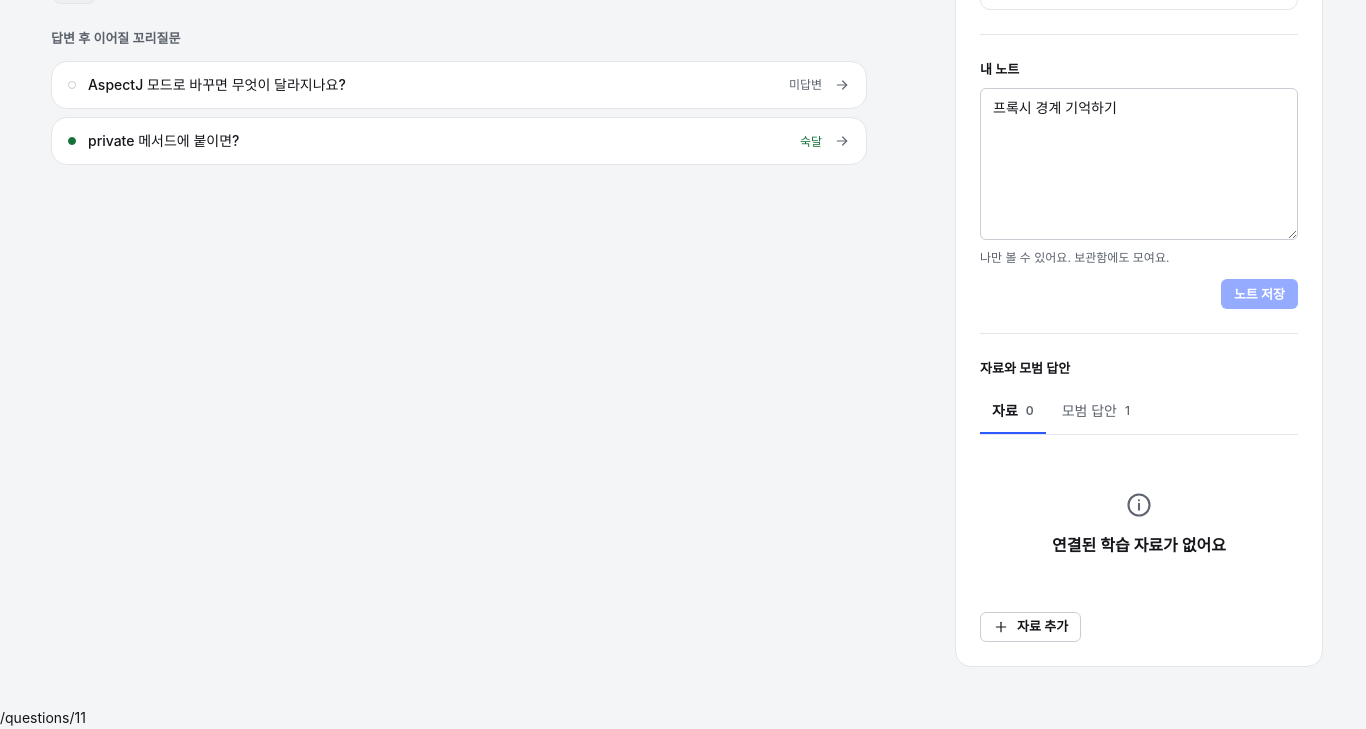
Test: QuestionWorkspacePage › validates and saves a new reference answer from a dialog
The width and height of the screenshot is (1366, 729).
(page scrolled)
Click the tab "모범 답안 1". click: (1096, 412)
box: top-left (1050, 390), bottom-right (1142, 434)
(page scrolled)
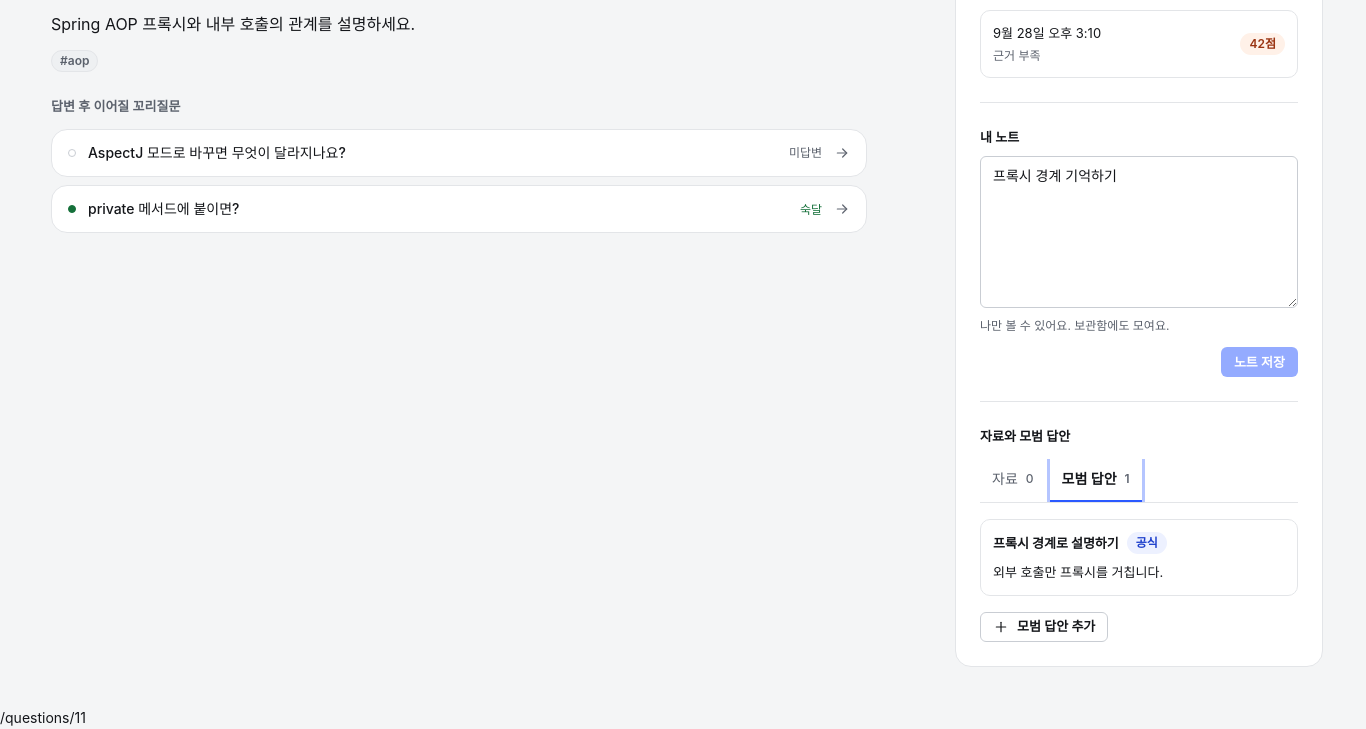
Click the button "모범 답안 추가". click: (1044, 627)
box: top-left (980, 612), bottom-right (1108, 642)
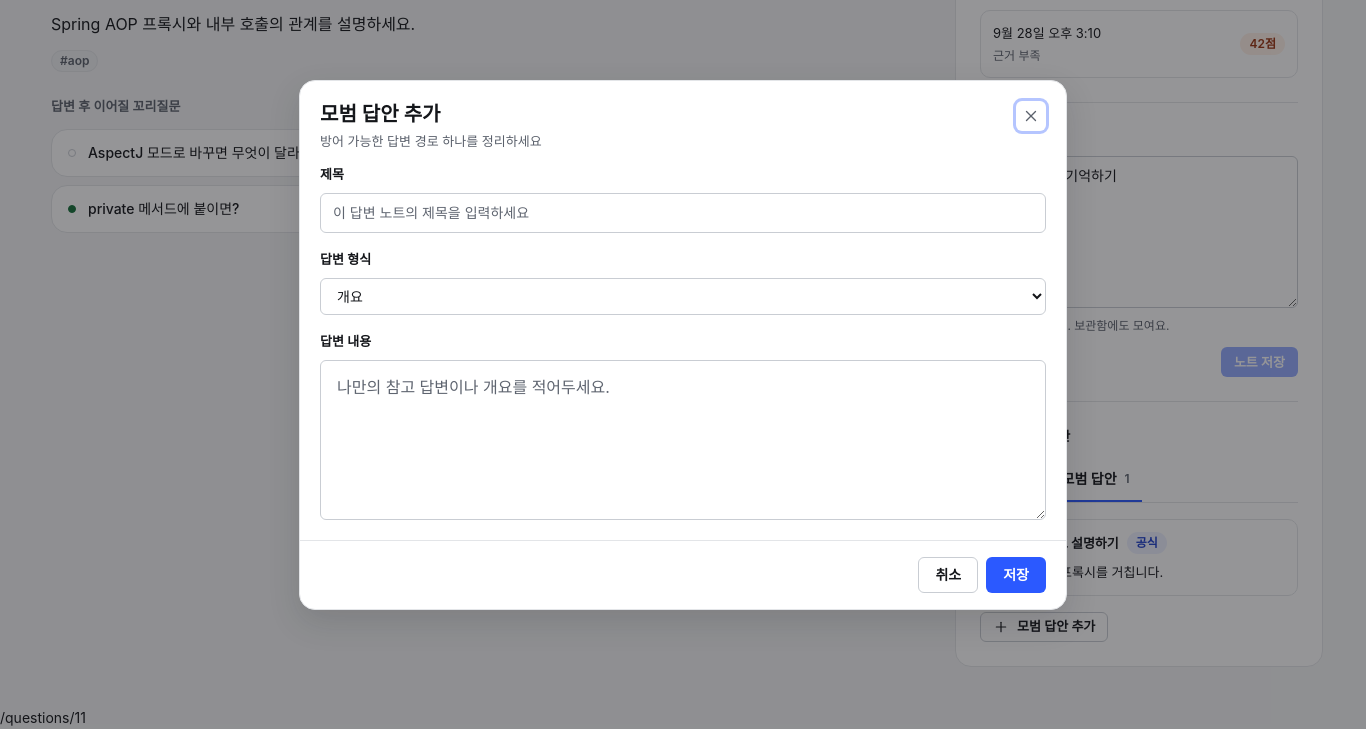
Click the button "저장". click: (1016, 575)
box: top-left (986, 557), bottom-right (1046, 593)
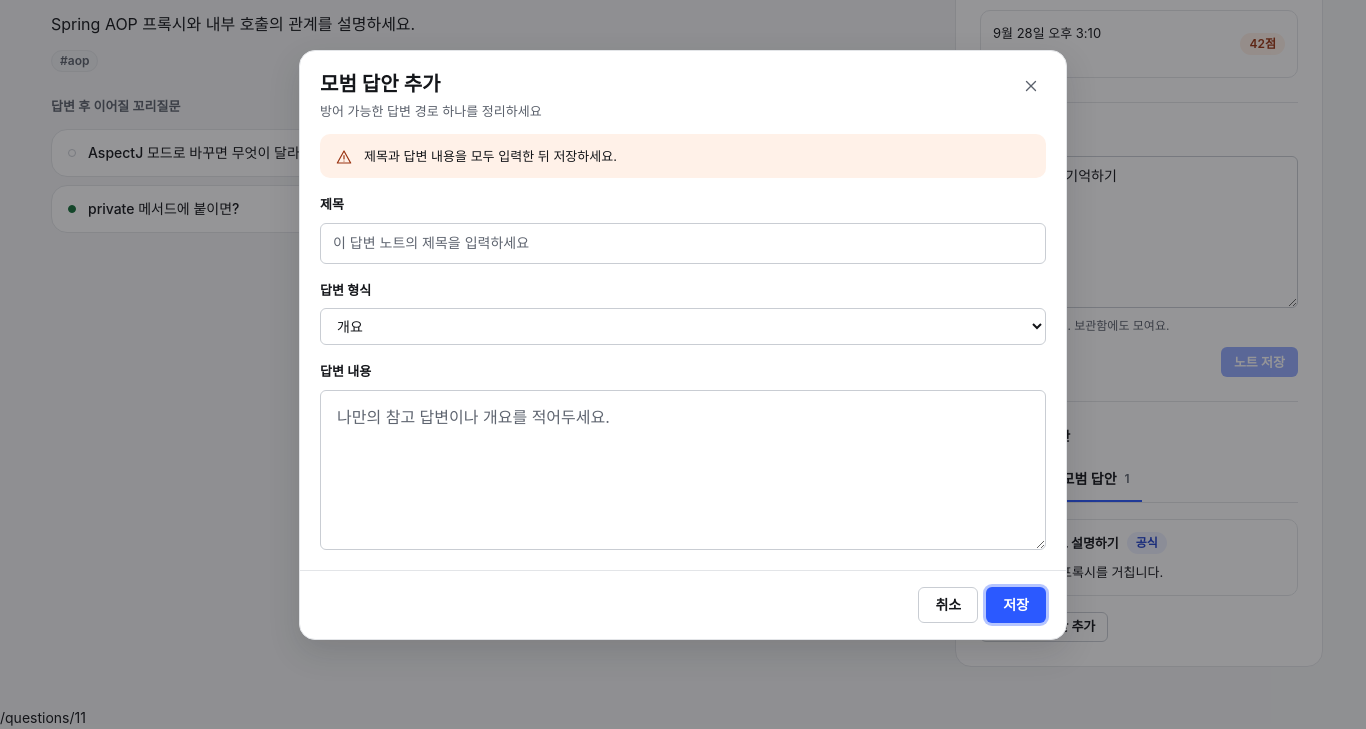
Now the message reads "제목과 답변 내용을 모두 입력한 뒤 저장하세요.", box top-left (364, 148), bottom-right (617, 164)
Type "내 개요" into the field labelled "제목". click: (683, 243)
box: top-left (320, 223), bottom-right (1046, 264)
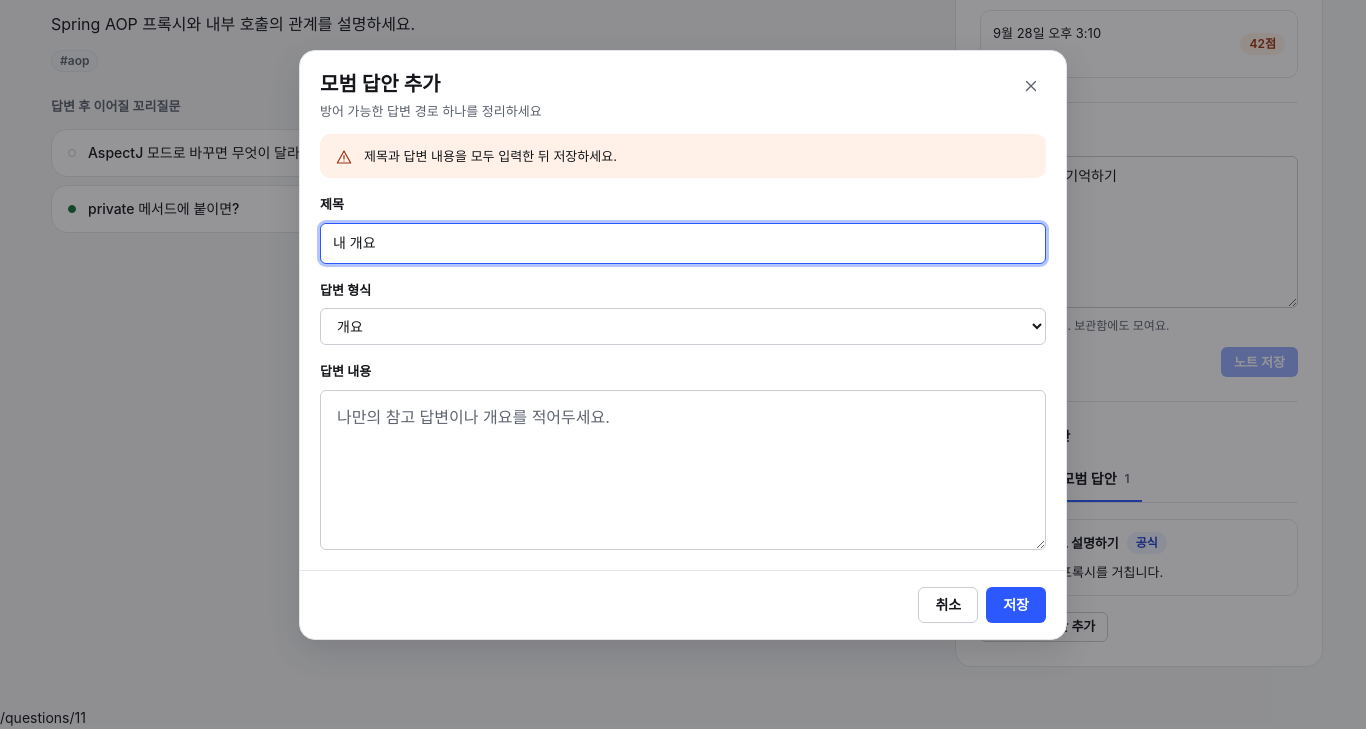
Type "프록시를 먼저 말한다." into the text box labelled "답변 내용". click: (683, 470)
box: top-left (320, 390), bottom-right (1046, 550)
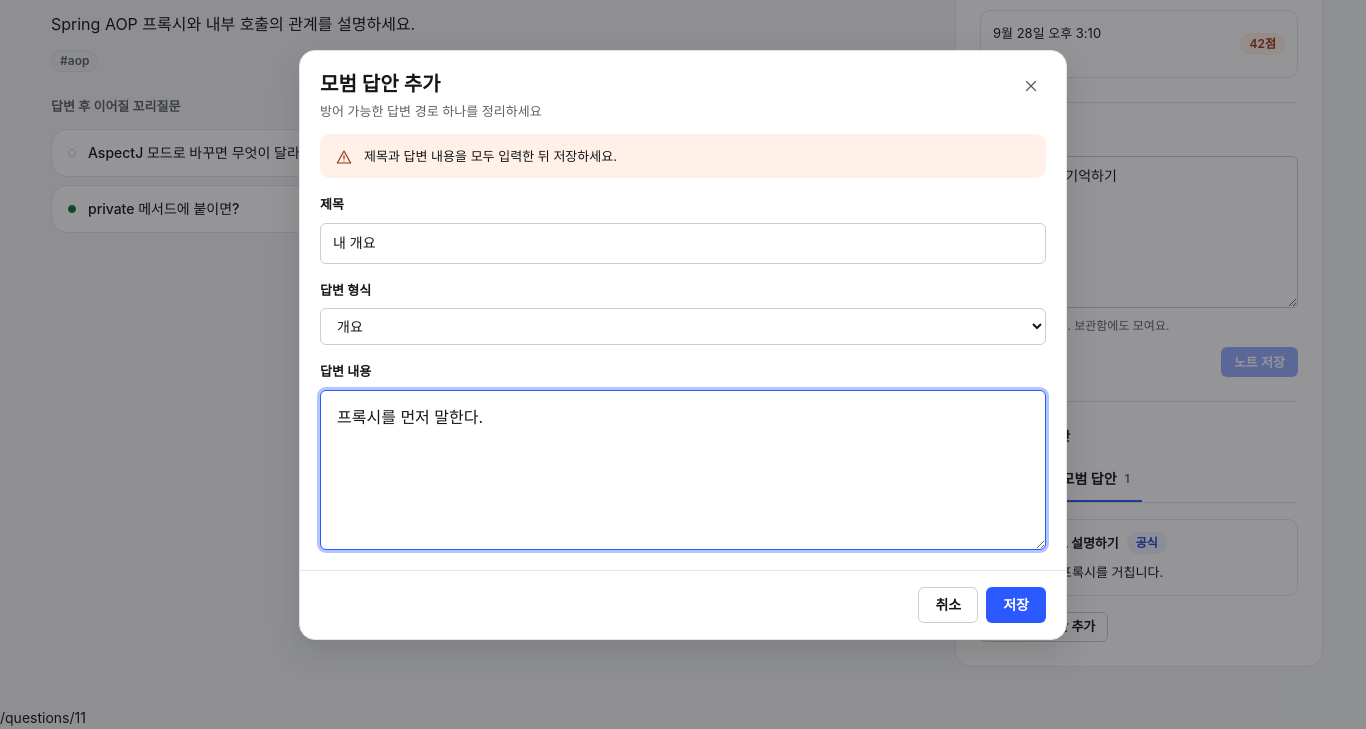
Click the button "저장". click: (1016, 605)
box: top-left (986, 587), bottom-right (1046, 623)
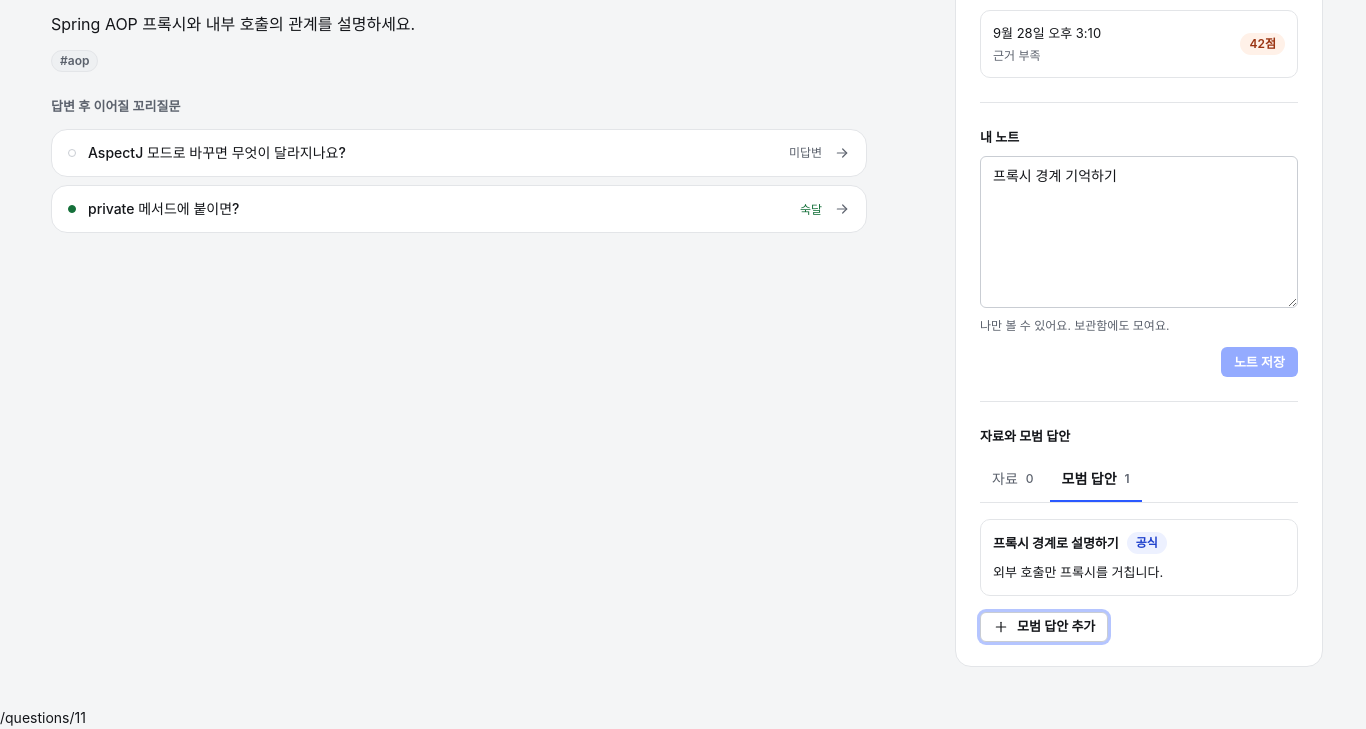
Now the dialog is gone
